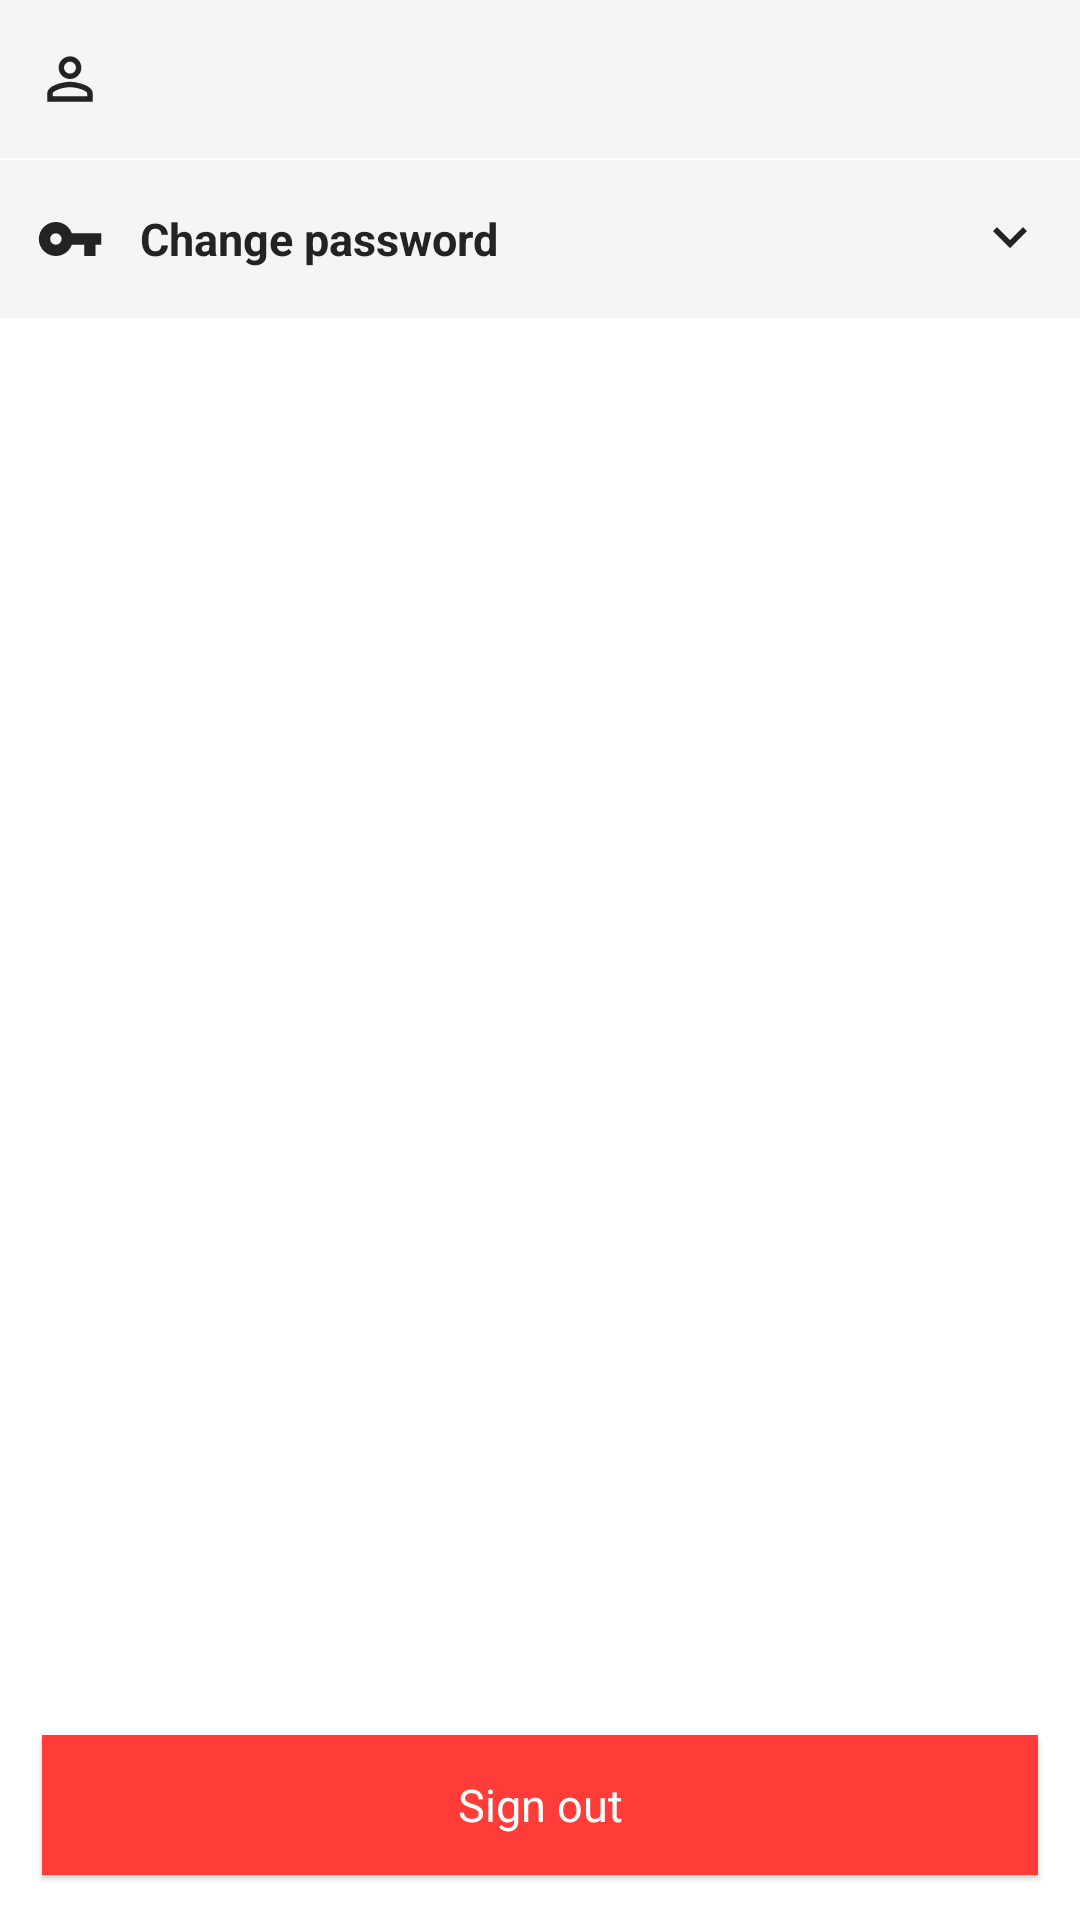

Icons on this 1080px x 1920px Android screen, each with its box as (x1, y1, x2, y2):
arrow down: (993, 227, 1027, 248)
identity: (47, 56, 93, 102)
